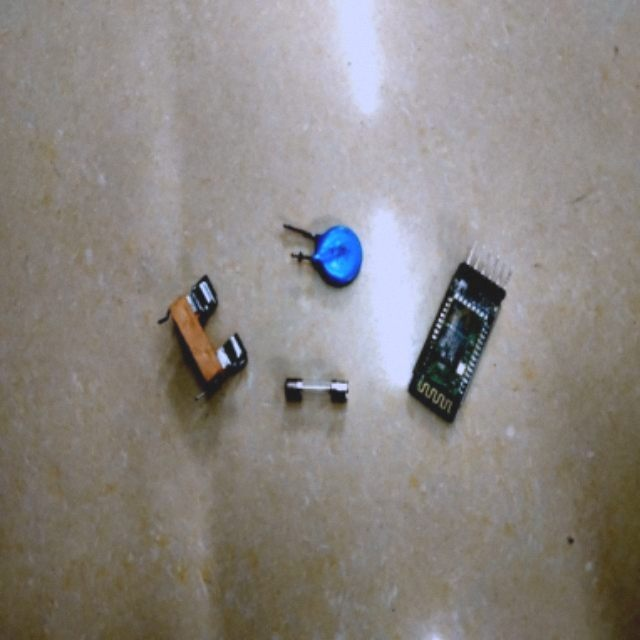capacitor: (312, 226, 363, 287)
